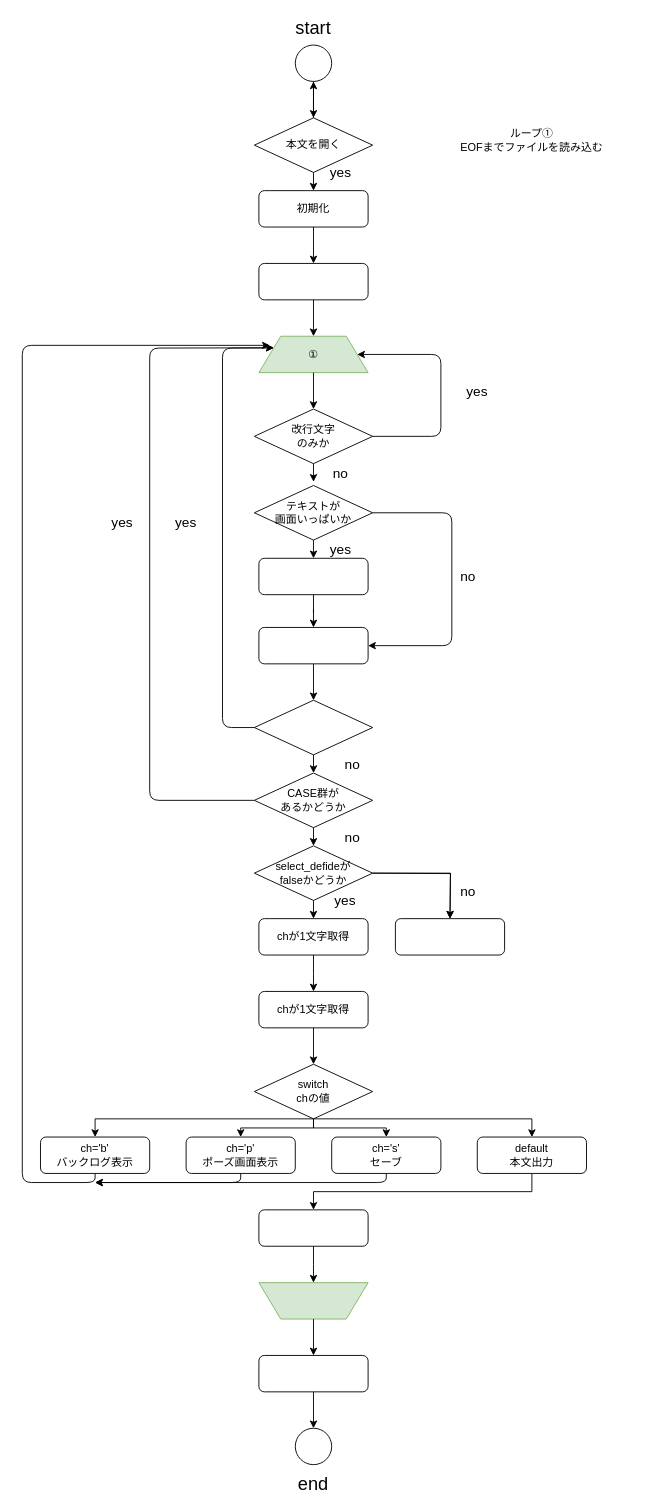
The diagram is 648 pixels wide and 1509 high, and some of its shapes have lost their labels. Each missing label, with the centre of its shape:
before_pos=ftell(fp): the point at 313,1227
originの 文の長さ取得: the point at 313,645
select_decide=false: the point at 449,936
SELECT群が あるかどうか: the point at 313,727
ロード画面作成: the point at 313,281
画面をクリアし、 バックログ作成: the point at 313,576
終了処理: the point at 313,1373
